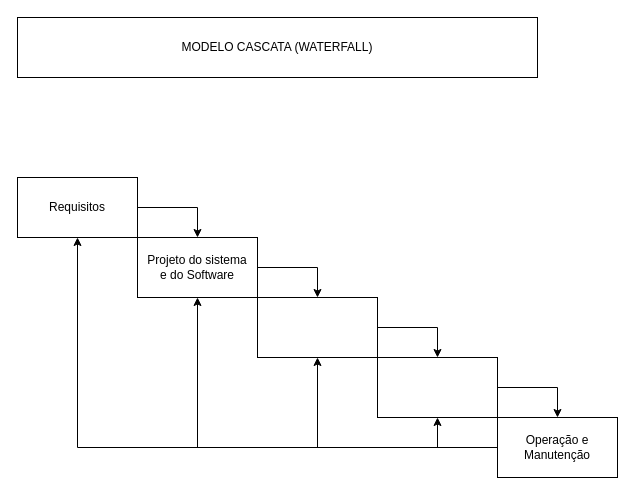
Some shapes in this 635 by 495 pixel diagram are drawn without their labels. Here are the shapes that lost their labels. From the top down, the centre of each, then its label:
At point (317, 327): "Implementações e testes de Unidades".
At point (437, 387): "Integração e testes do sistema".
